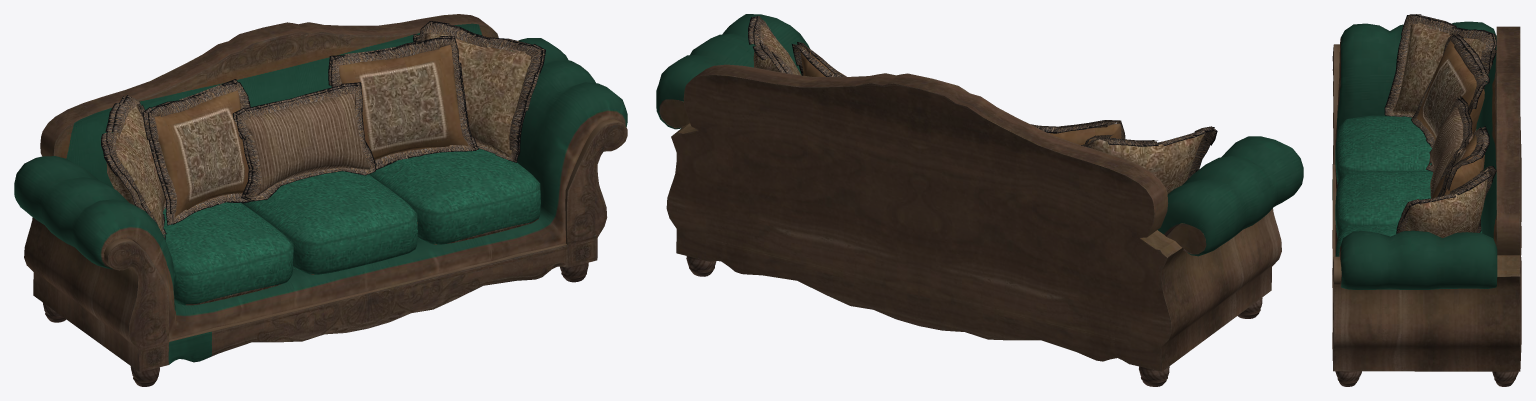
The model's file is sofa.glb.
3 renders of one model, left to right at view 1: azimuth 30°, elevation 25°; view 2: azimuth 150°, elevation 25°; view 3: azimuth 270°, elevation 25°, orthographic. The views are drawn at different scales.
Visible parts, largest first — view 1: sofa_03; view 2: sofa_03; view 3: sofa_03.
Part boxes in pixels (box(x1,y1,x2,y2)): sofa_03: box(14, 14, 627, 386); sofa_03: box(656, 14, 1303, 386); sofa_03: box(1332, 14, 1521, 386).
Bounding box in the file's own units: 2.73 × 1.12 × 0.9251.
2 materials, 2 textured.
